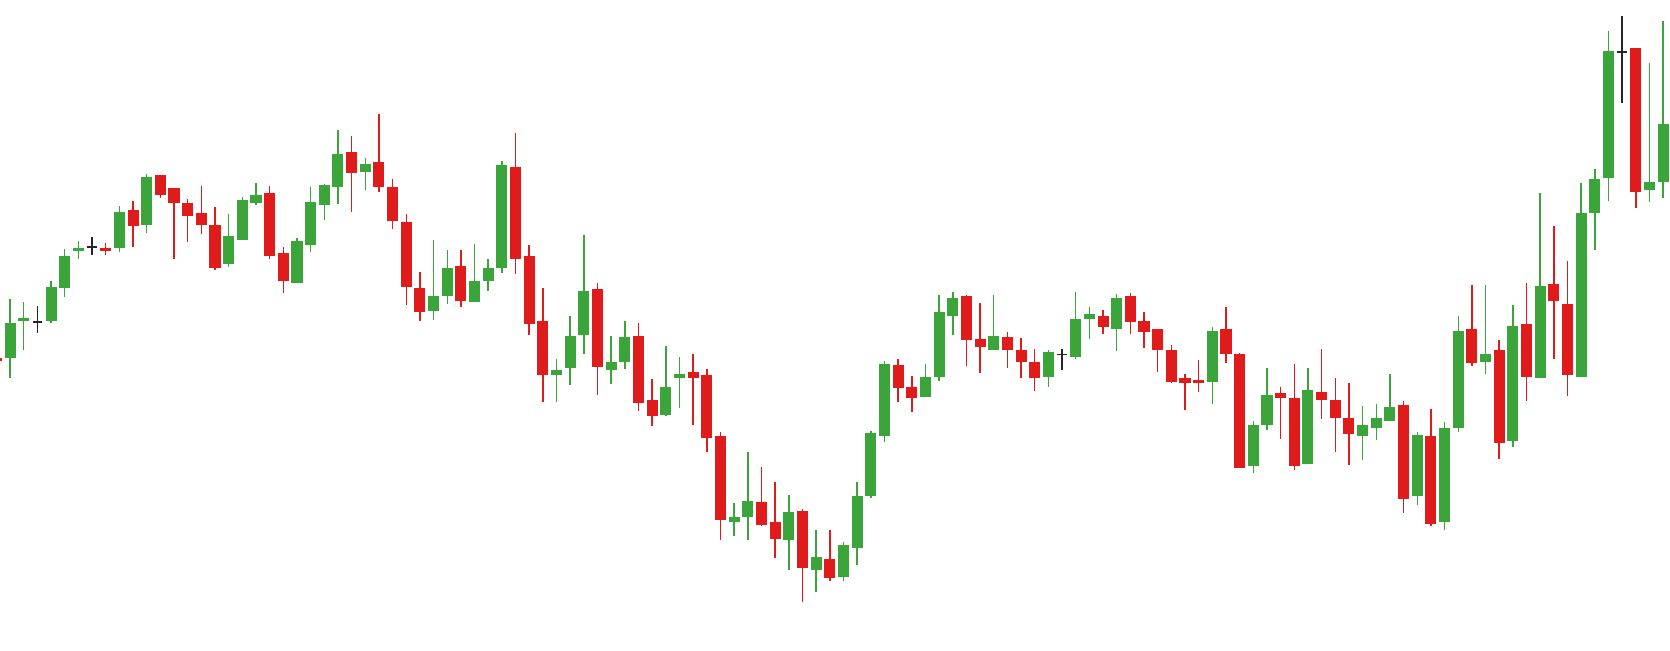buy: (1232, 394, 1423, 520)
sell: (140, 126, 357, 238)
